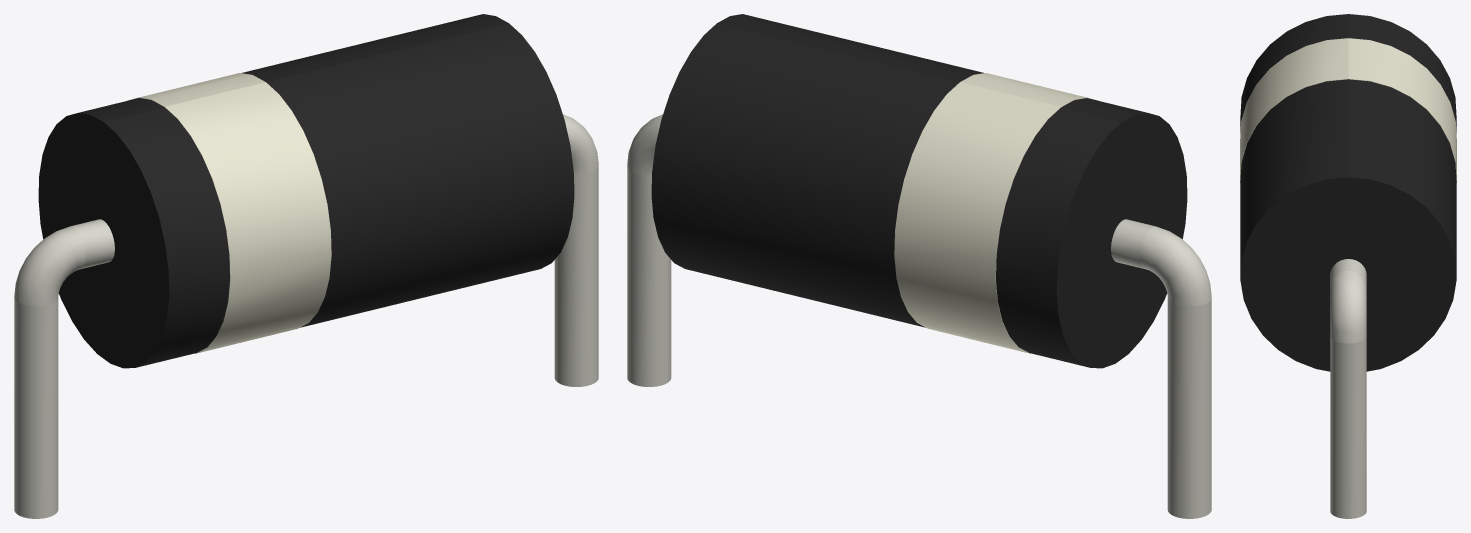
File: kc-d_do-27_p12.70mm_horizontal.glb
3 views of the same model, side by side, from view 1: azimuth 30°, elevation 25°; view 2: azimuth 150°, elevation 25°; view 3: azimuth 270°, elevation 25° (orthographic). The views are drawn at different scales.
Parts seen in each view (by area): view 1: 0_0_0_0, 0.75_0.75_0.6666666666666666_0, 0.6666666666666666_0.6666666666666666_0.5833333333333334_0.8; view 2: 0_0_0_0, 0.75_0.75_0.6666666666666666_0, 0.6666666666666666_0.6666666666666666_0.5833333333333334_0.8; view 3: 0_0_0_0, 0.6666666666666666_0.6666666666666666_0.5833333333333334_0.8, 0.75_0.75_0.6666666666666666_0.
Boxes of the visible parts, x1,y1,x2,y2 form: 0_0_0_0: [38, 14, 574, 368]; 0.75_0.75_0.6666666666666666_0: [128, 73, 331, 353]; 0.6666666666666666_0.6666666666666666_0.5833333333333334_0.8: [14, 114, 598, 518]; 0_0_0_0: [651, 14, 1187, 368]; 0.75_0.75_0.6666666666666666_0: [894, 73, 1097, 353]; 0.6666666666666666_0.6666666666666666_0.5833333333333334_0.8: [627, 114, 1211, 518]; 0_0_0_0: [1240, 14, 1456, 371]; 0.6666666666666666_0.6666666666666666_0.5833333333333334_0.8: [1330, 259, 1366, 518]; 0.75_0.75_0.6666666666666666_0: [1240, 38, 1456, 182].
Size of the model in its own units: 1.36 by 0.834 by 0.5343.
